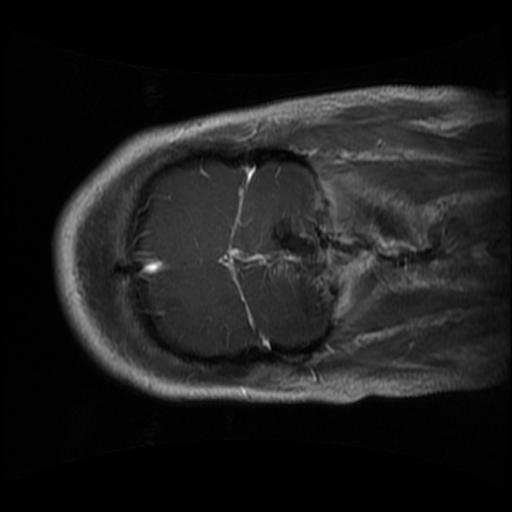glioma: (271, 217, 323, 276)
